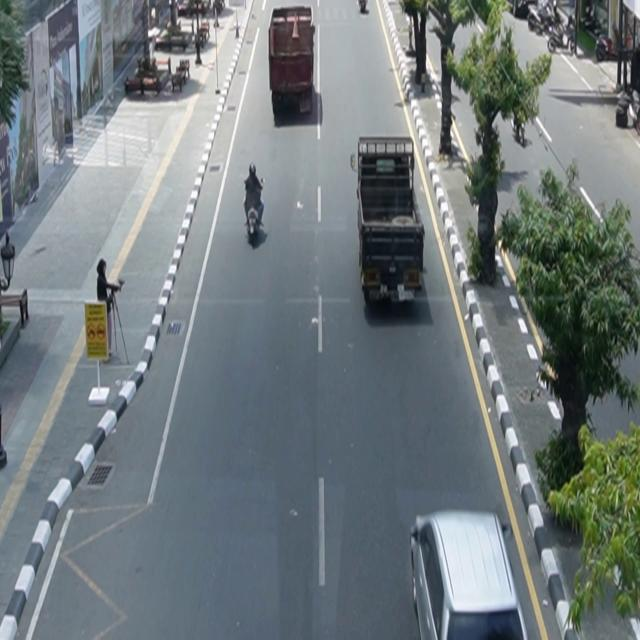car: (411, 509, 530, 640)
truck: (355, 136, 426, 308), (269, 7, 316, 116)
